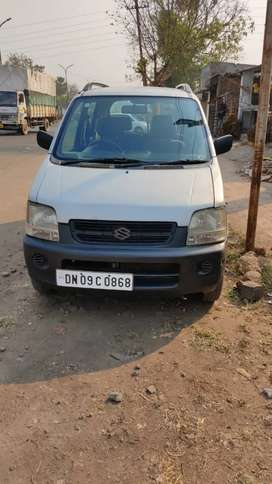DN09C0868: (55, 268, 133, 291)
